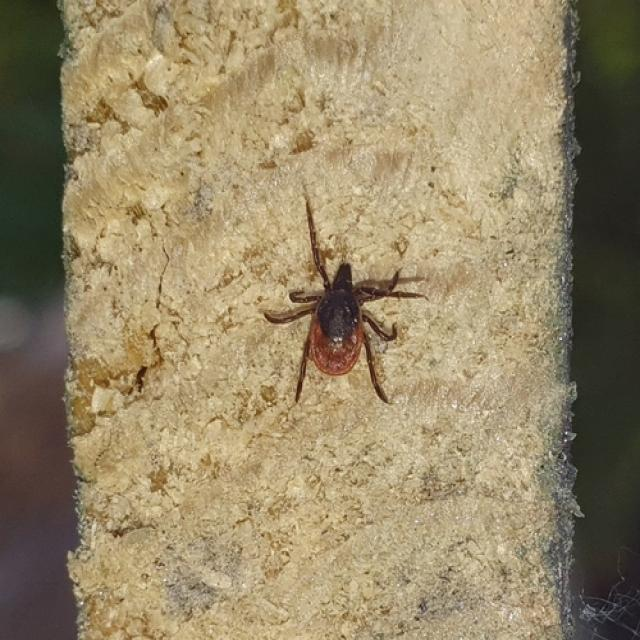Ixodes Ricinus-F: (262, 184, 426, 406)
